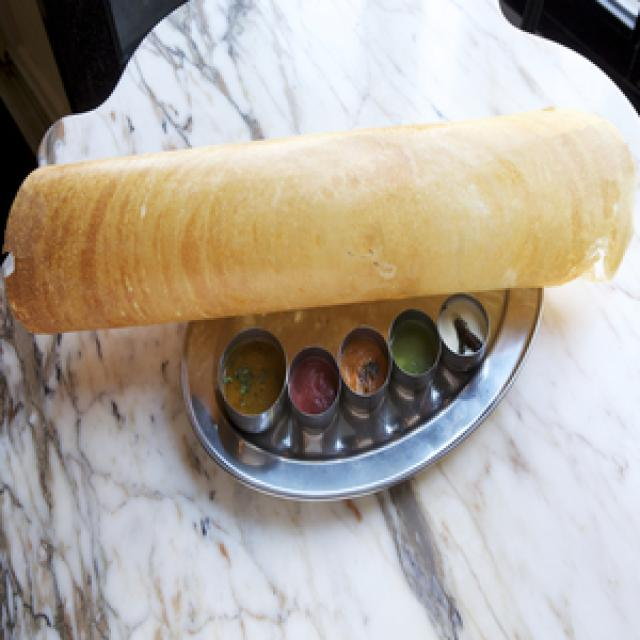dosa: (0, 94, 640, 350)
